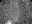person: (6, 20, 13, 24)
